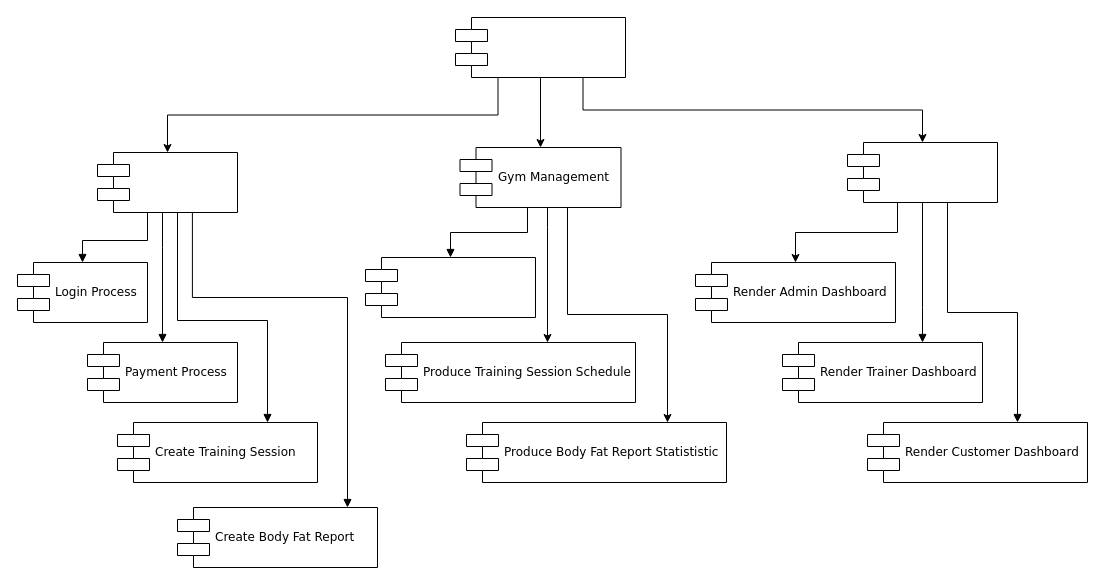
This 1105x585 diagram has some shape labels left out. The centre of each missing label's shape, as x and y in pixels:
"Gym Genie <<application>>" belongs at point (540, 47).
"Input Controller" belongs at point (167, 182).
"Output Controller" belongs at point (922, 172).
"Produce Member List" belongs at point (450, 287).
